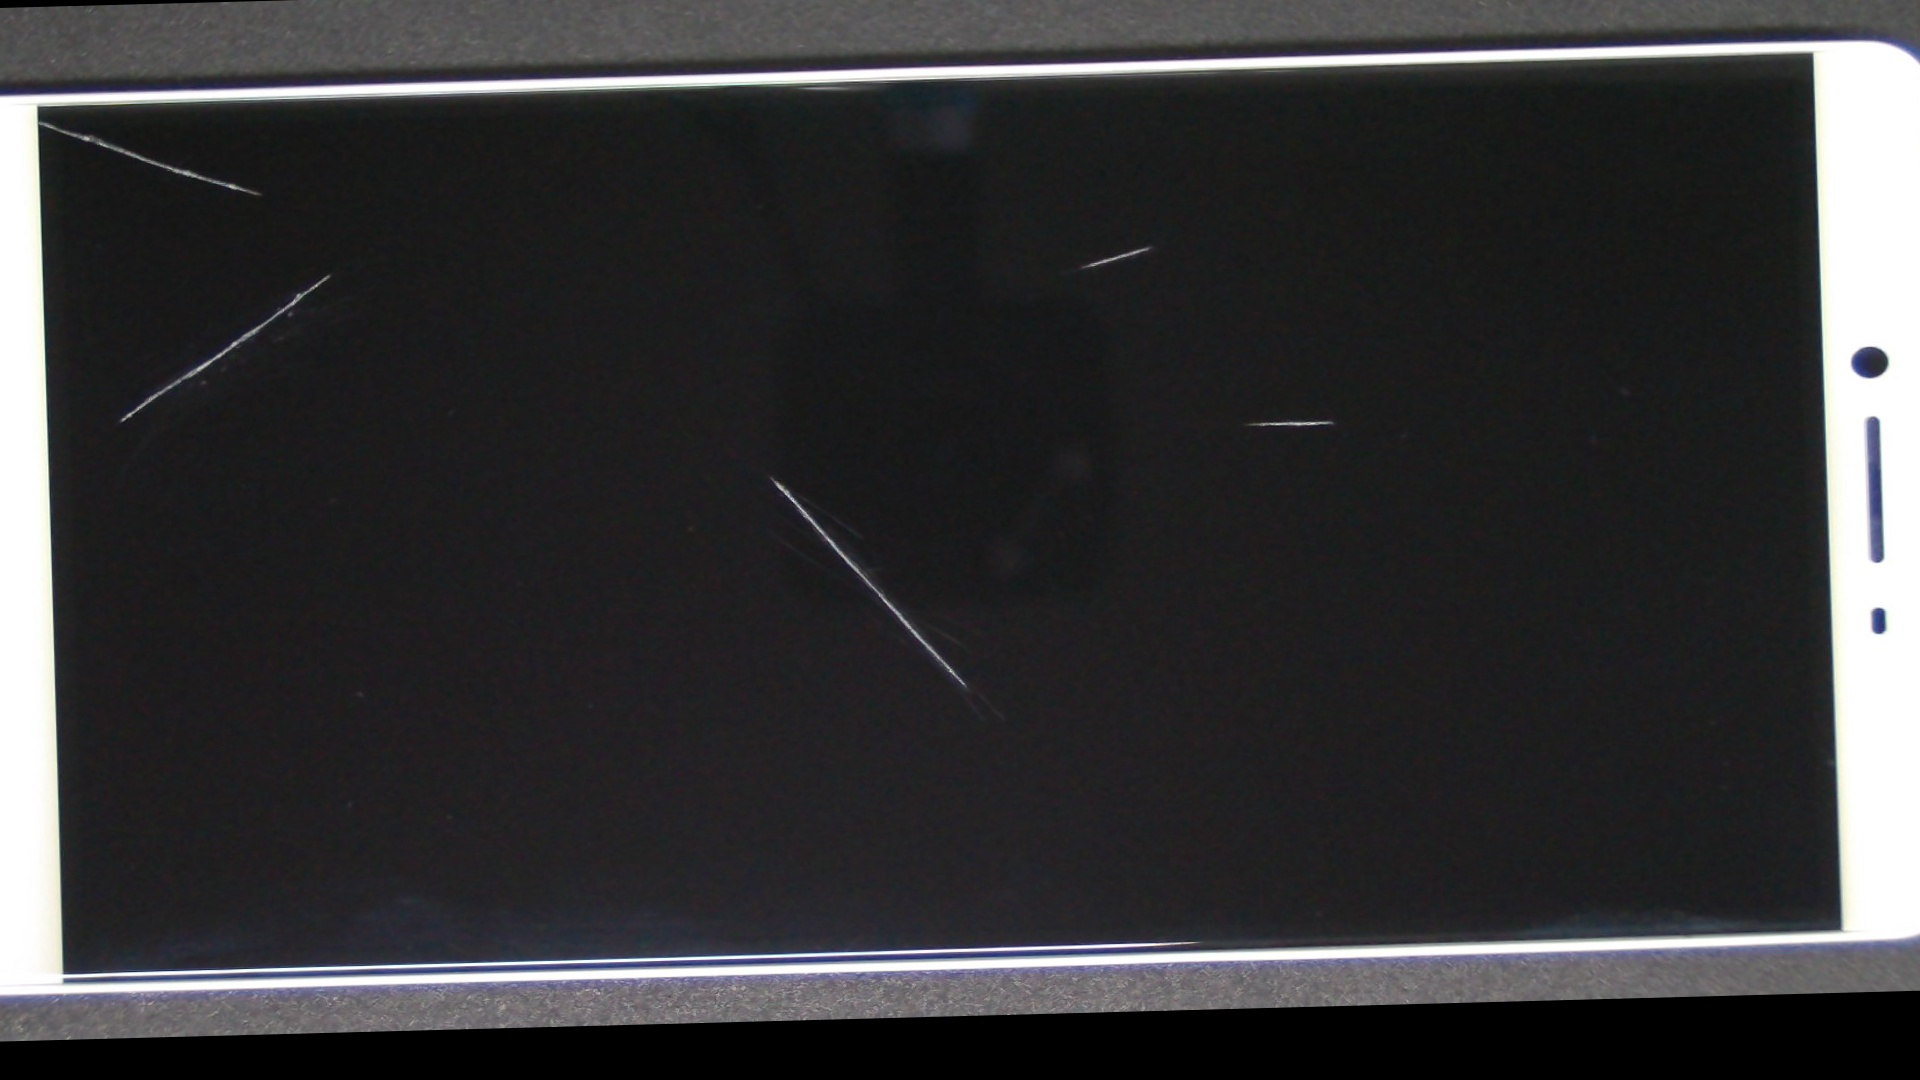oil: (546, 179, 1920, 665), (306, 219, 1236, 732), (496, 94, 1807, 397), (86, 127, 563, 421), (0, 61, 140, 181)
